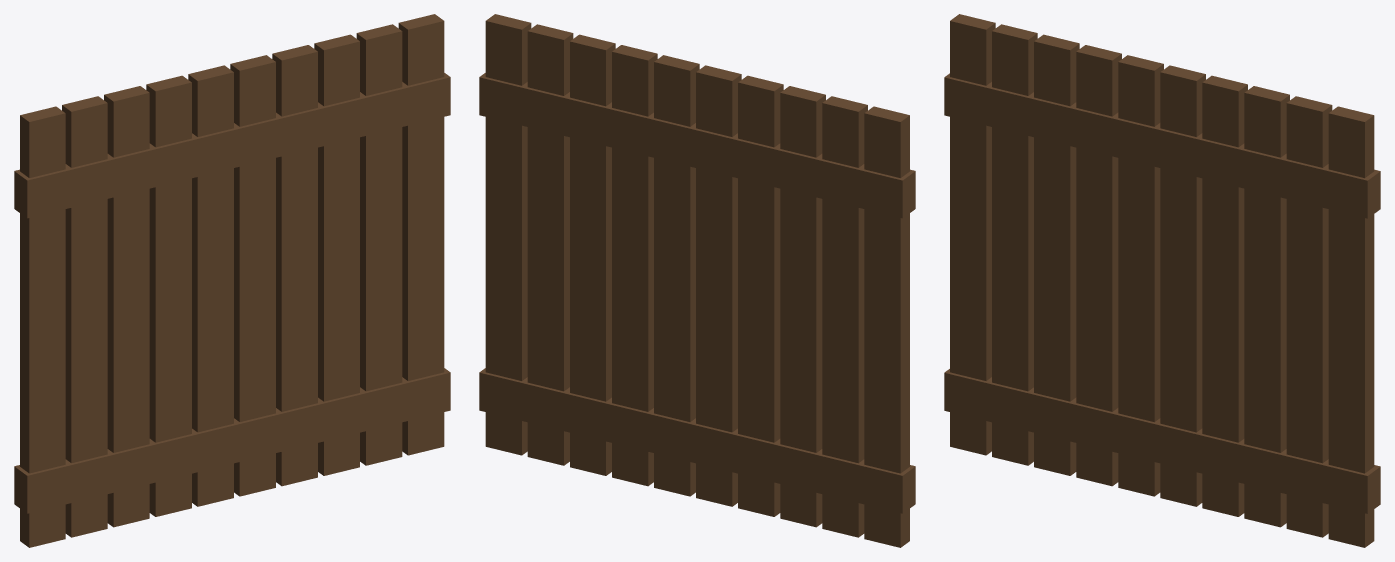
The model's file is Fence.fbx.
3 views of the same model, side by side, from view 1: azimuth 30°, elevation 25°; view 2: azimuth 150°, elevation 25°; view 3: azimuth 330°, elevation 25° (orthographic).
Visible parts, largest first — view 1: Cube; view 2: Cube; view 3: Cube.
Boxes of the visible parts, left/top/right/bottom form: Cube: left=14, top=14, right=450, bottom=547; Cube: left=479, top=14, right=915, bottom=547; Cube: left=944, top=14, right=1380, bottom=547.
Size of the model in its own units: 2335 by 2244 by 125.
